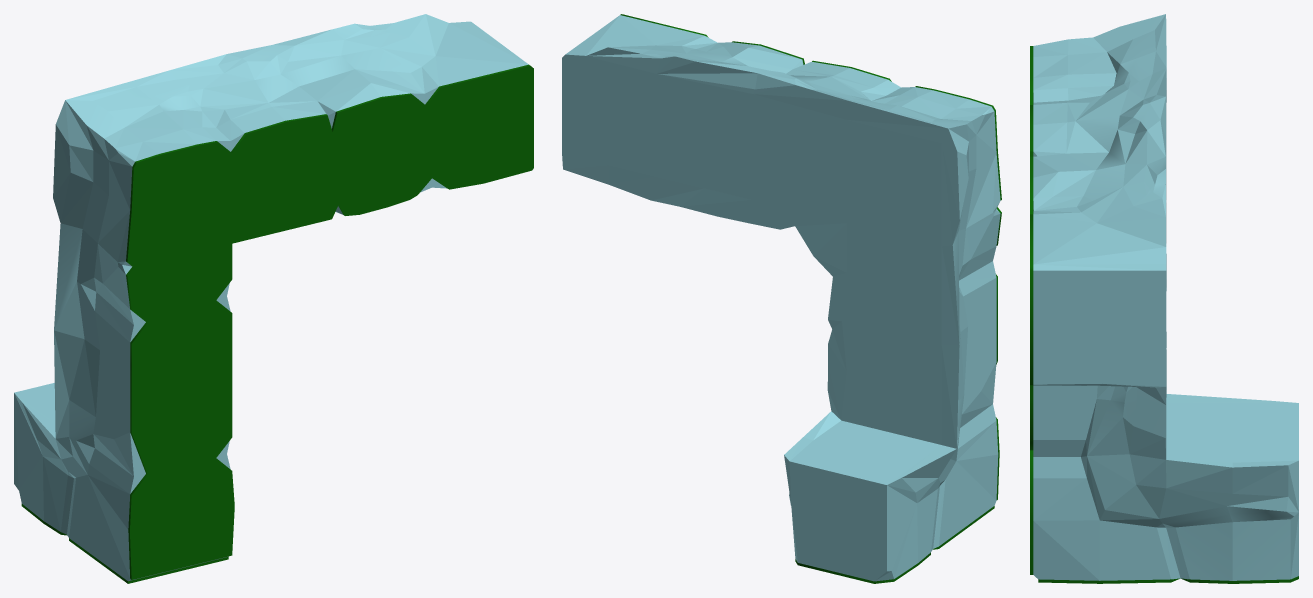
The model's file is PiezaLV3.FBX.
3 renders of one model, left to right at view 1: azimuth 30°, elevation 25°; view 2: azimuth 150°, elevation 25°; view 3: azimuth 270°, elevation 25°, orthographic. The views are drawn at different scales.
Visible parts, largest first — view 1: Cesped, Pieza; view 2: Pieza, Cesped; view 3: Pieza, Cesped.
Boxes of the visible parts, bbox=[...] form: Cesped: bbox=[21, 64, 533, 583]; Pieza: bbox=[14, 14, 528, 581]; Pieza: bbox=[562, 15, 1000, 581]; Cesped: bbox=[620, 14, 1001, 583]; Pieza: bbox=[1033, 14, 1298, 580]; Cesped: bbox=[1030, 46, 1298, 583].
Bounding box in the file's own units: 165 × 169 × 79.74.
